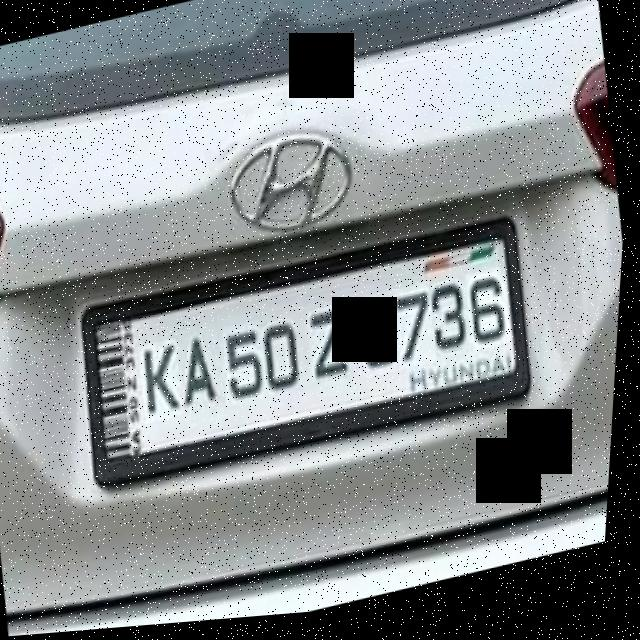0: (257, 316, 315, 403)
3: (358, 297, 406, 386), (431, 282, 479, 363)
5: (220, 323, 275, 412)
6: (466, 274, 520, 360)
7: (392, 289, 445, 379)
A: (180, 334, 229, 419)
K: (139, 340, 193, 427)
Z: (307, 309, 359, 391)
